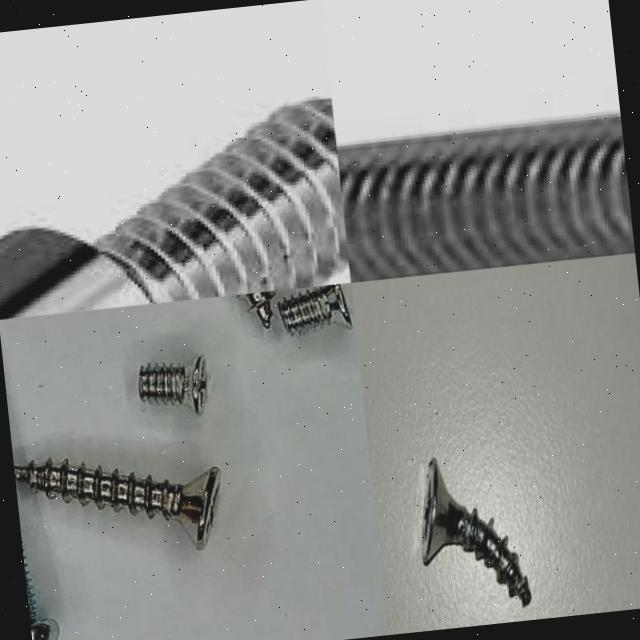Screw: (0, 98, 349, 319), (336, 114, 635, 282), (14, 460, 220, 548), (421, 457, 531, 605), (137, 355, 206, 414), (278, 284, 352, 332)
